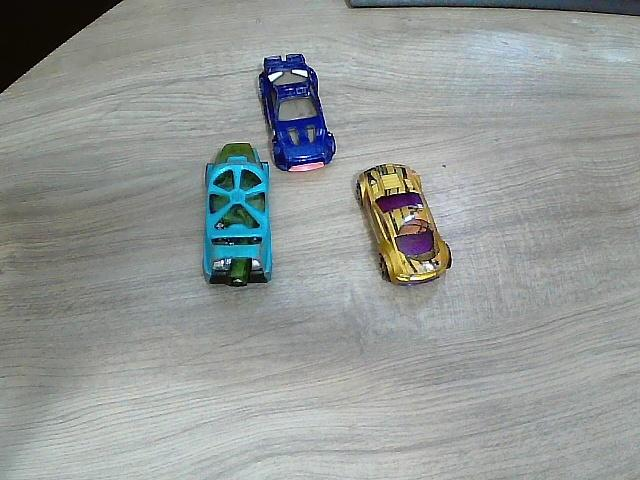Carro: (355, 165, 452, 286), (204, 143, 272, 288), (258, 55, 336, 174)
